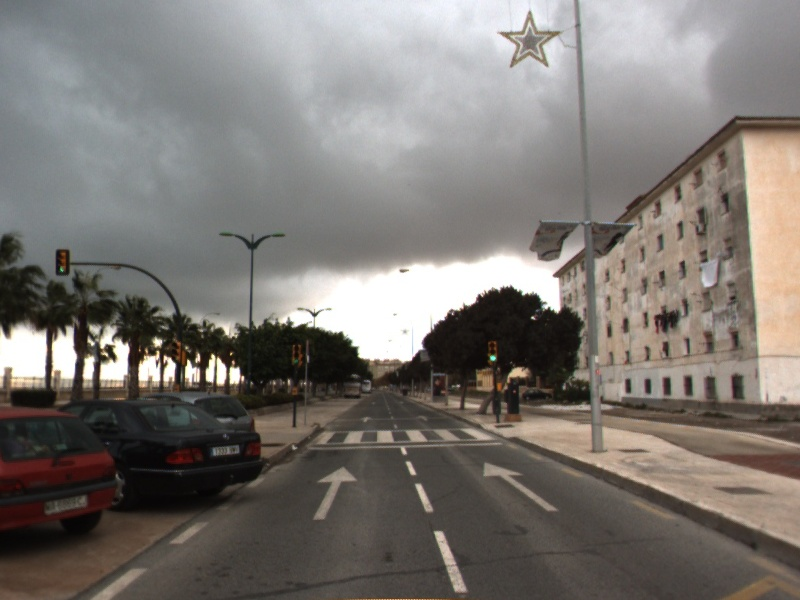STRAIGHT: (482, 459, 562, 512), (312, 463, 359, 521), (358, 414, 375, 425), (414, 413, 431, 423)
